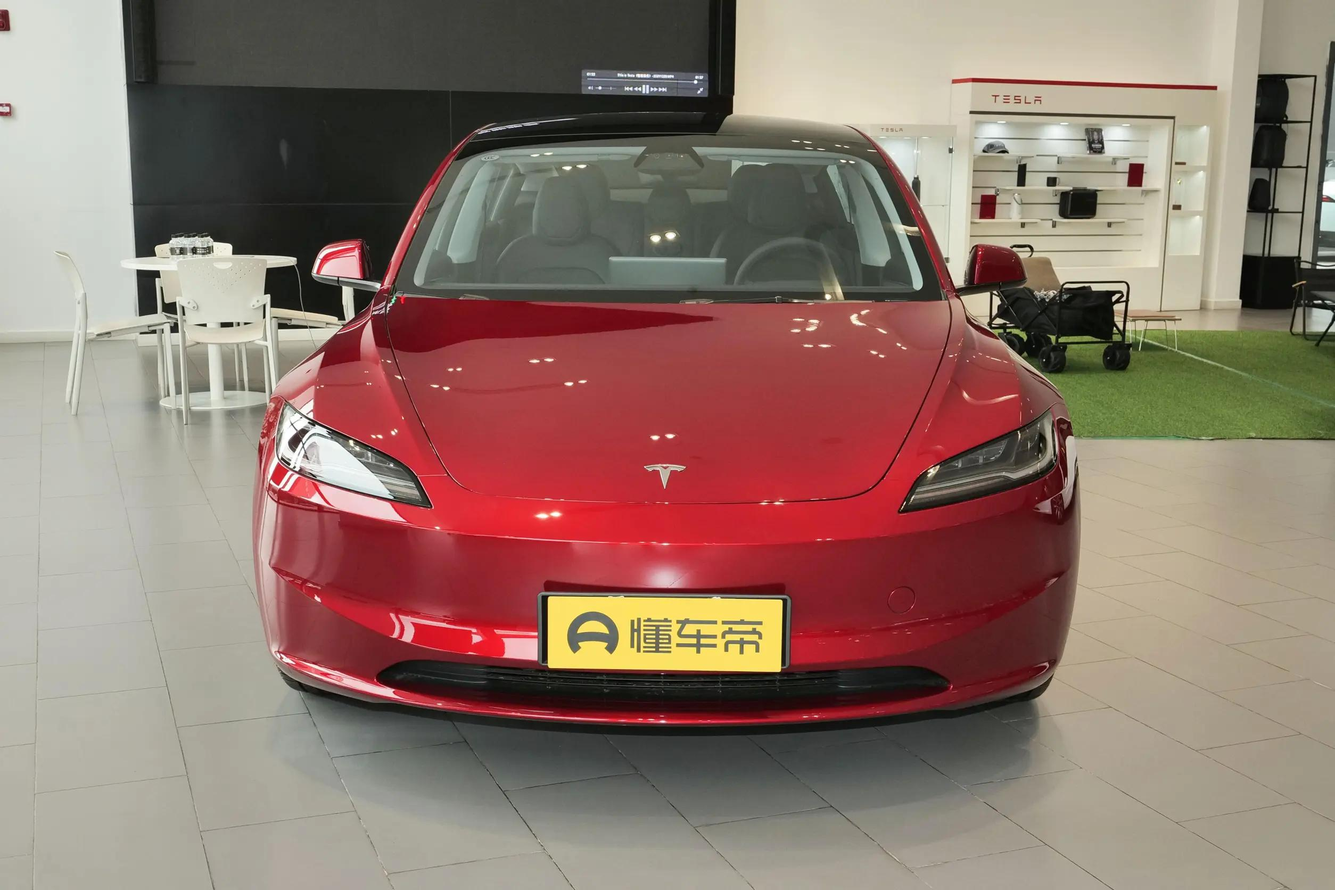Tesla: (644, 464, 686, 489)
